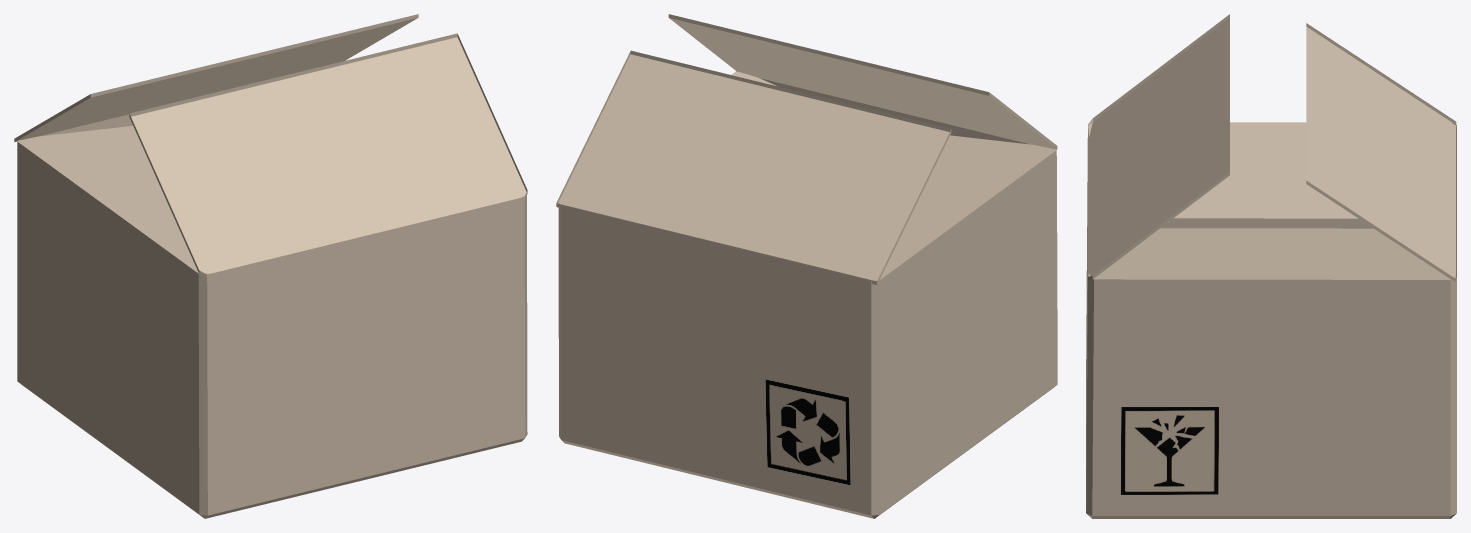
The picture shows the model from 3 angles, left to right: view 1: azimuth 30°, elevation 25°; view 2: azimuth 150°, elevation 25°; view 3: azimuth 270°, elevation 25°; orthographic projection. The views are drawn at different scales.
Visible parts, largest first — view 1: 立方体.018; view 2: 立方体.018; view 3: 立方体.018.
Boxes of the visible parts, x1,y1,x2,y2 form: 立方体.018: (14,14,527,518); 立方体.018: (556,14,1057,518); 立方体.018: (1086,14,1456,518).
Bounding box in the file's own units: 36.45 × 37.71 × 36.2.
Materials: 1 (1 with a texture image).
